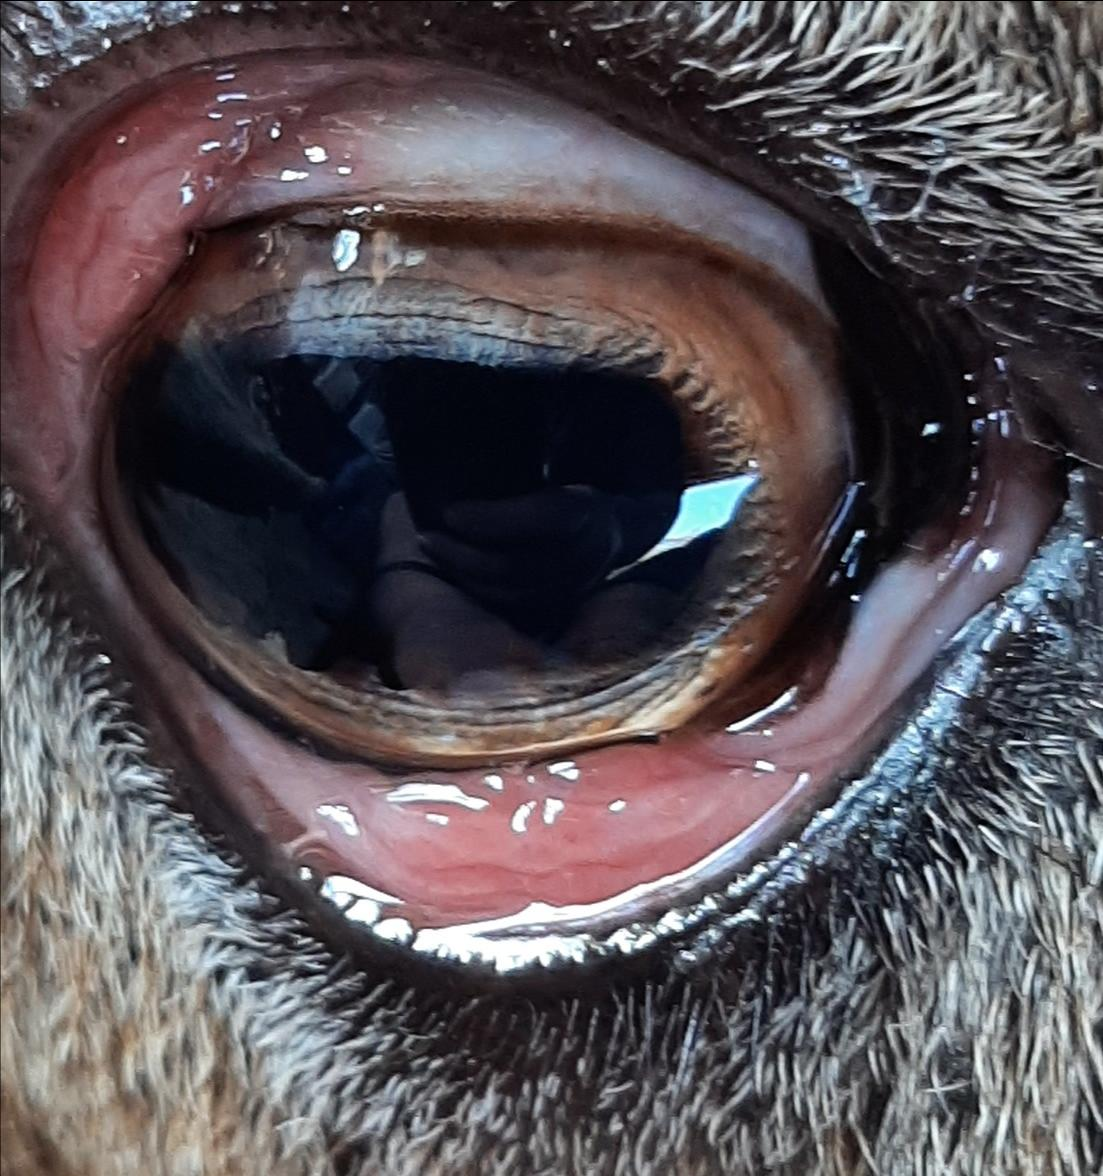eye_membrane: (20, 49, 835, 914)
